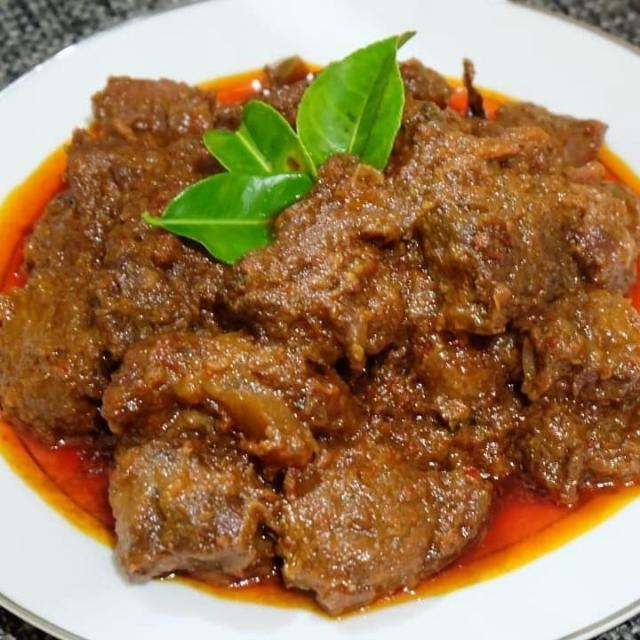Rendang: (3, 70, 640, 608)
